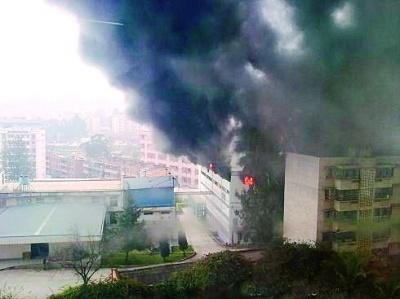smoke: (105, 8, 391, 145)
